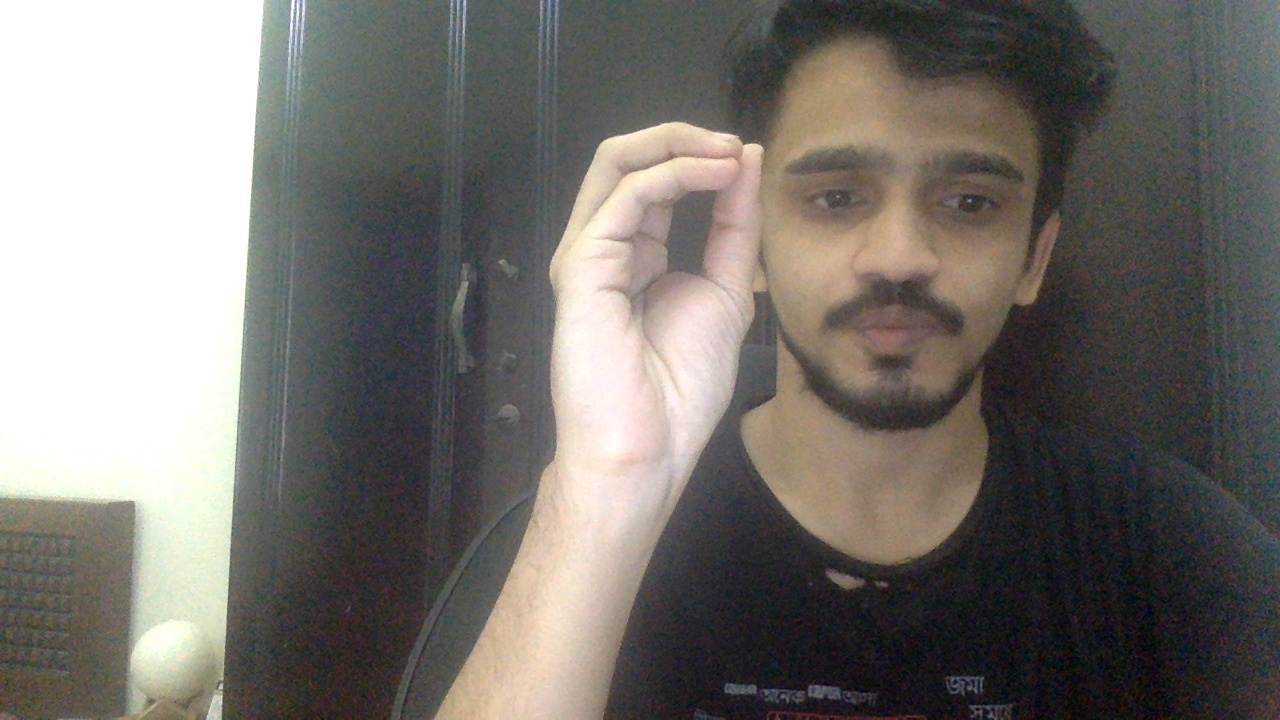zero: (547, 122, 762, 481)
